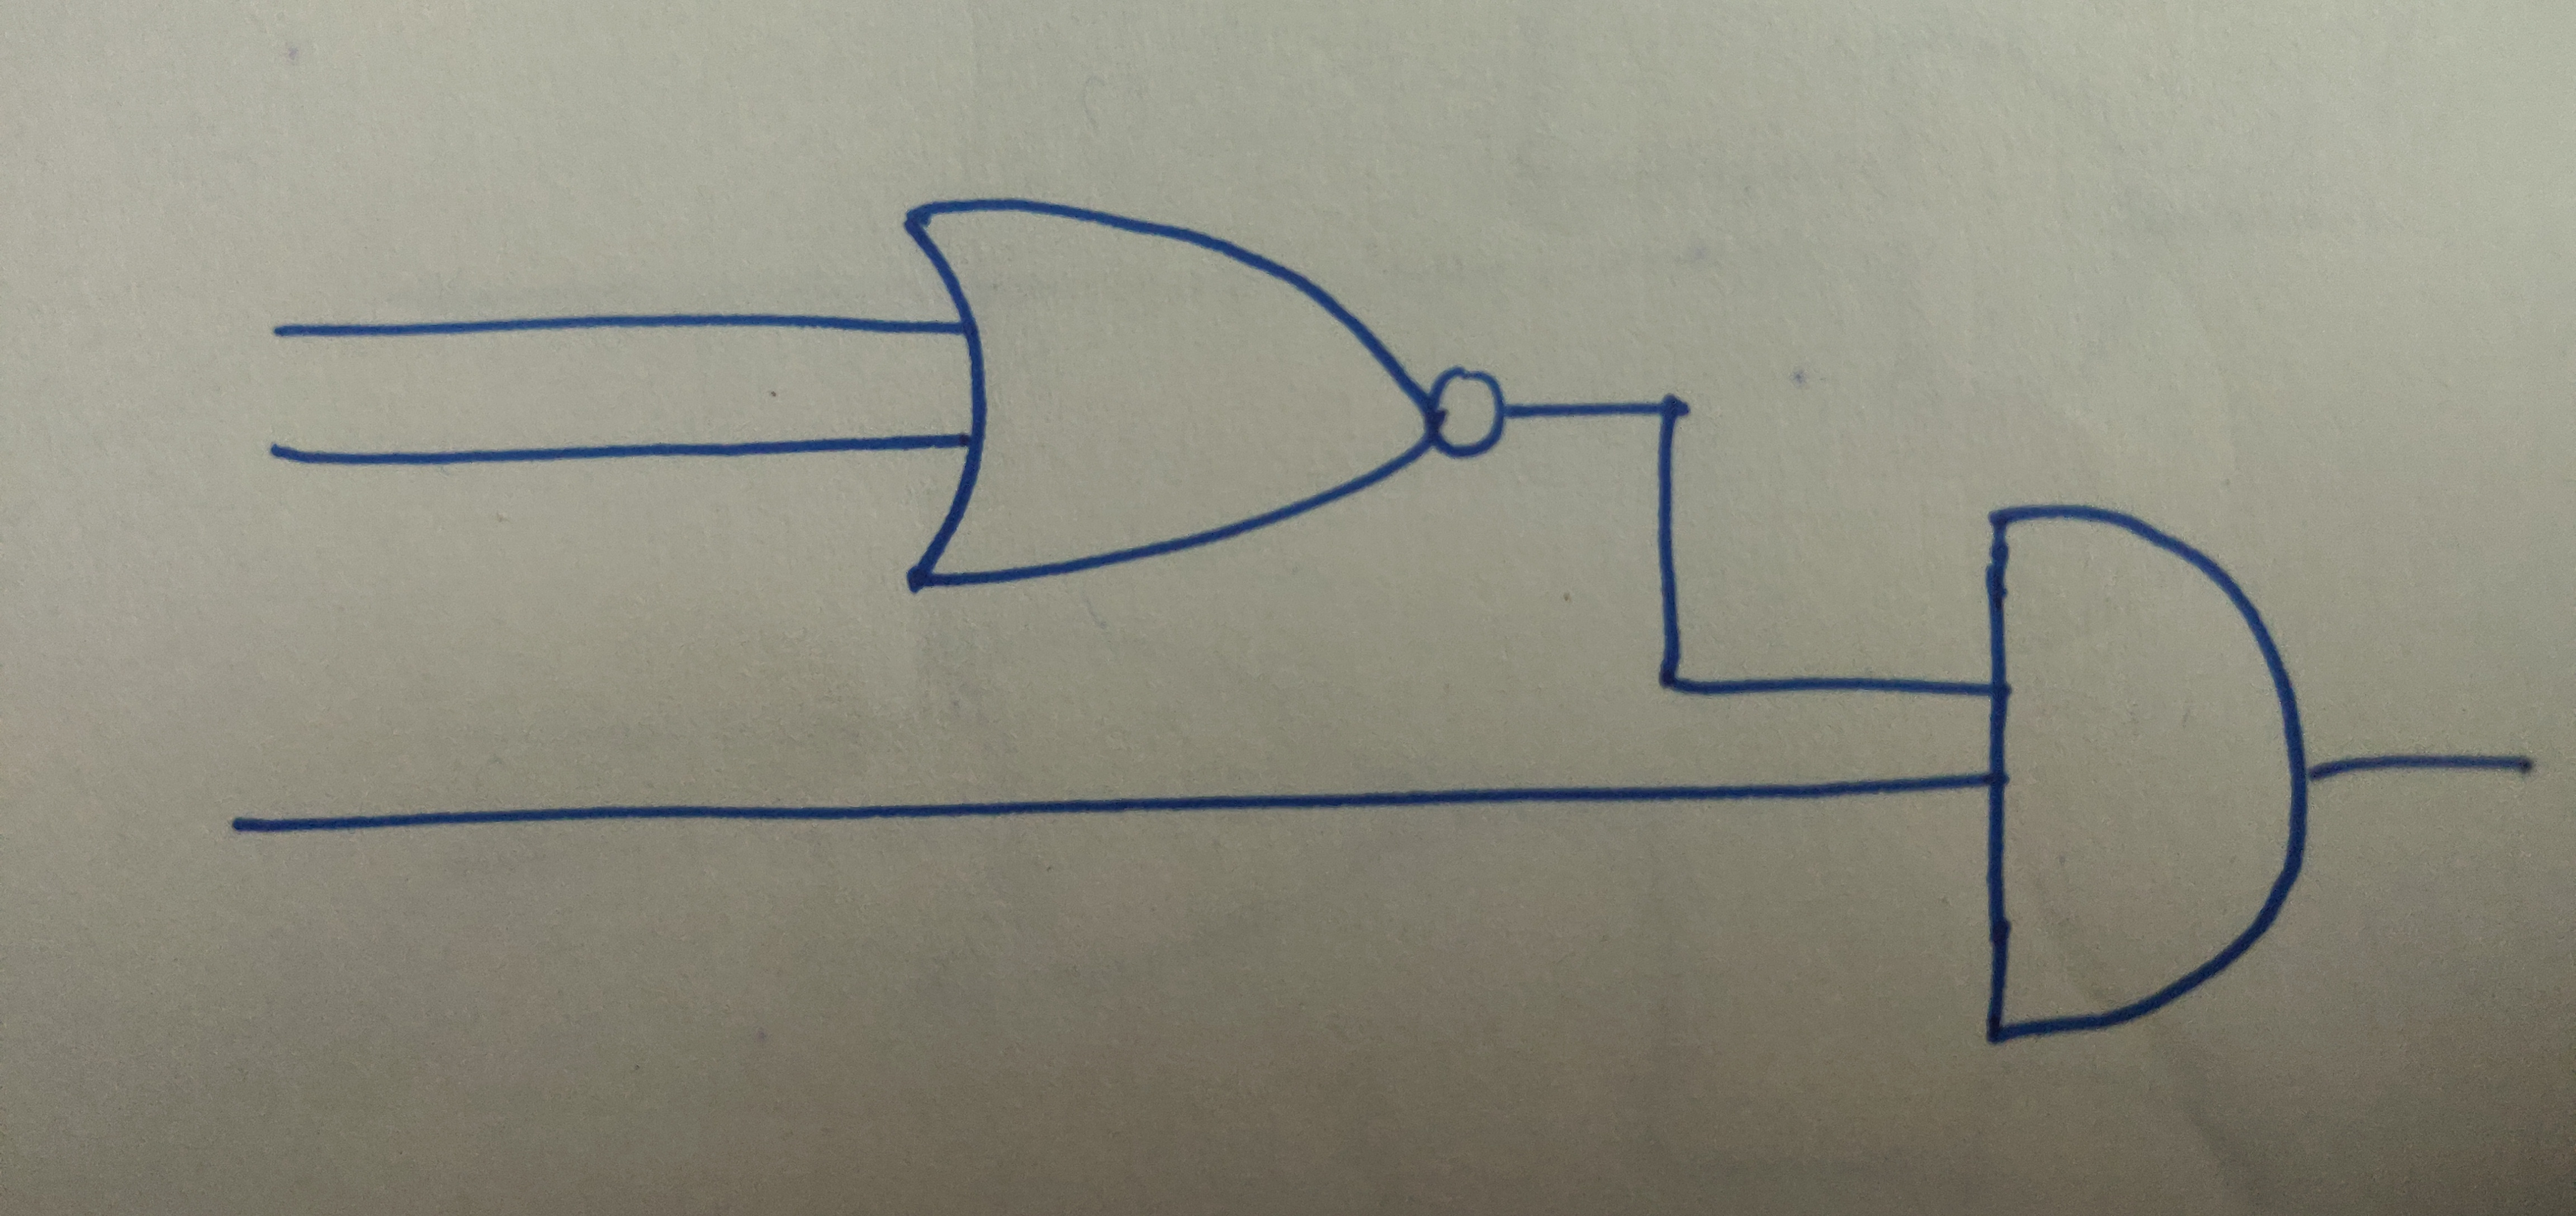and: (1978, 506, 2320, 1048)
not: (1433, 365, 1511, 463)
or: (904, 194, 1439, 598)
